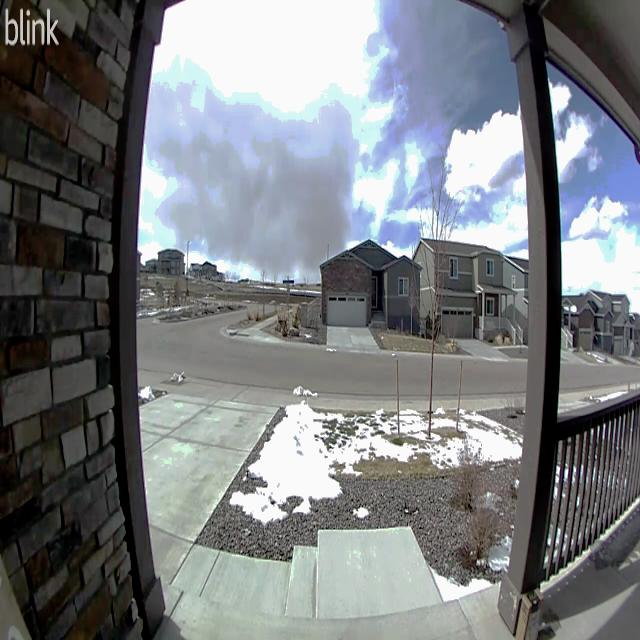Box: (517, 588, 543, 640)
